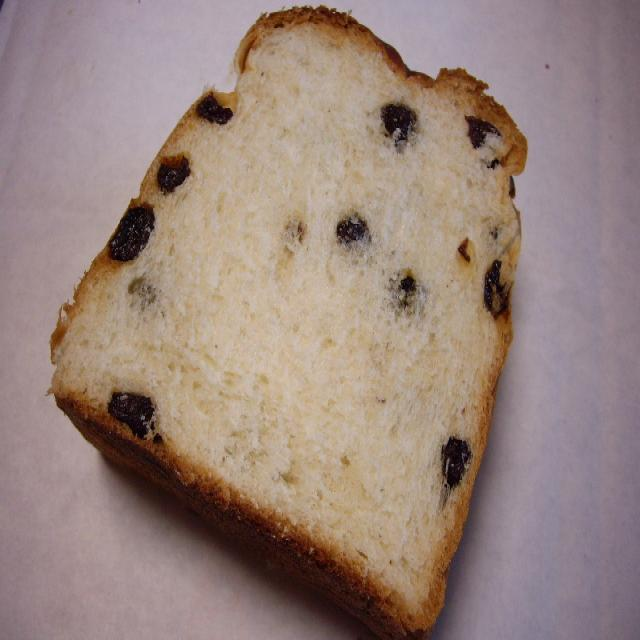面包点心: (28, 0, 552, 640)
